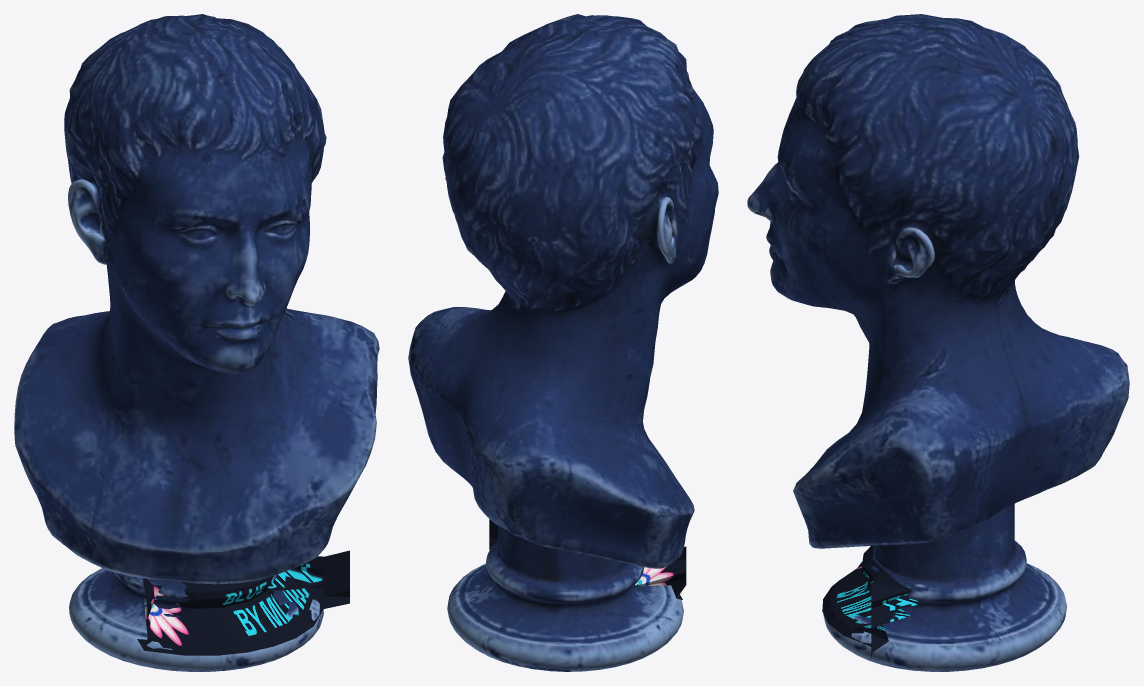
File: nyb_zoo_bust.glb
3 renders of one model, left to right at view 1: azimuth 30°, elevation 25°; view 2: azimuth 150°, elevation 25°; view 3: azimuth 270°, elevation 25°, orthographic. The views are drawn at different scales.
Visible parts, largest first — view 1: marble_bust_01, stk_lbl_31657ed07e.png; view 2: marble_bust_01, stk_lbl_31657ed07e.png; view 3: marble_bust_01, stk_lbl_31657ed07e.png.
Part boxes in pixels (left/top/right/bottom): marble_bust_01: left=14, top=14, right=379, bottom=671; stk_lbl_31657ed07e.png: left=137, top=550, right=349, bottom=655; marble_bust_01: left=408, top=14, right=718, bottom=671; stk_lbl_31657ed07e.png: left=489, top=519, right=686, bottom=599; marble_bust_01: left=747, top=14, right=1129, bottom=671; stk_lbl_31657ed07e.png: left=822, top=545, right=924, bottom=658.
Size of the model in its own units: 0.2717 by 0.5149 by 0.2997.
2 materials, 2 textured.
